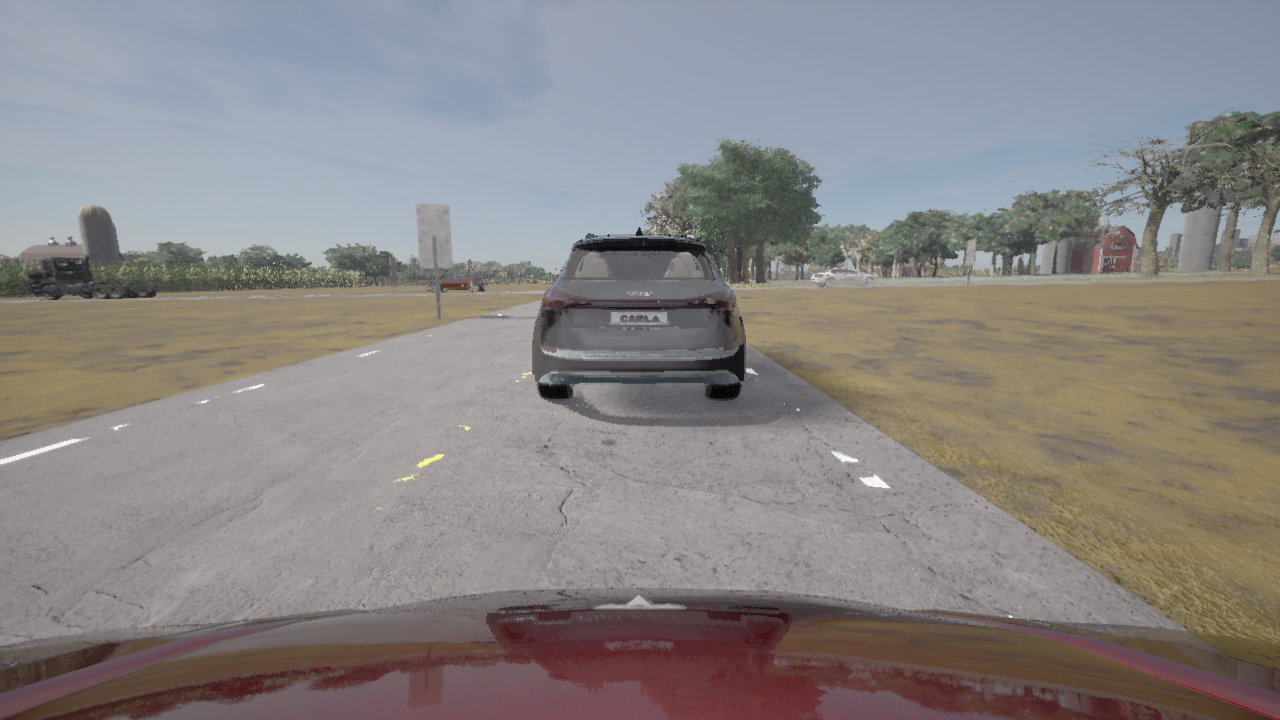cyclist: (0, 588, 1279, 719), (533, 228, 744, 399), (25, 255, 164, 299), (426, 270, 488, 293), (810, 267, 877, 286)
